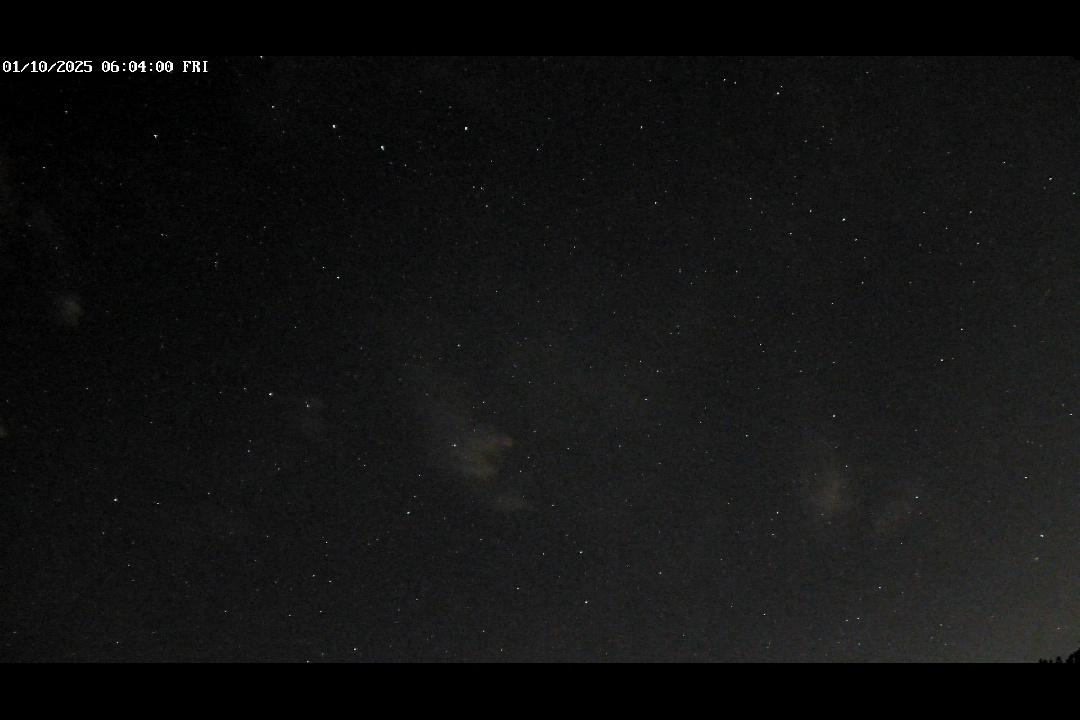Plane: (1025, 281, 1070, 315)
